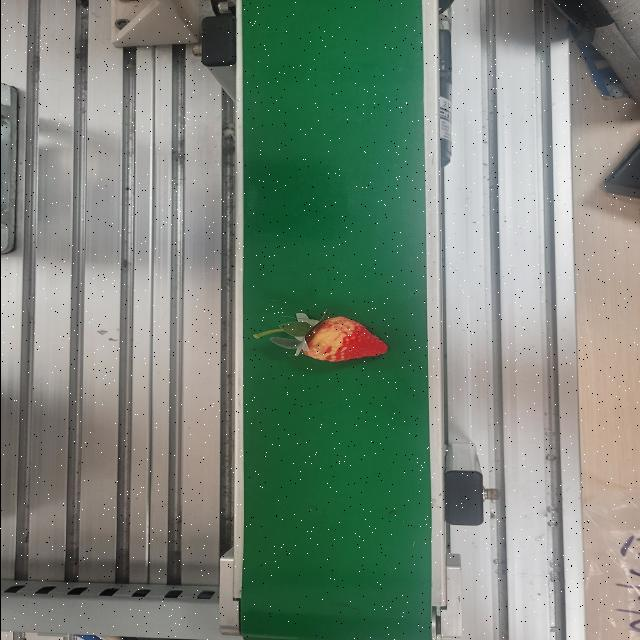Moldy Strawberry: (296, 315, 392, 364)
